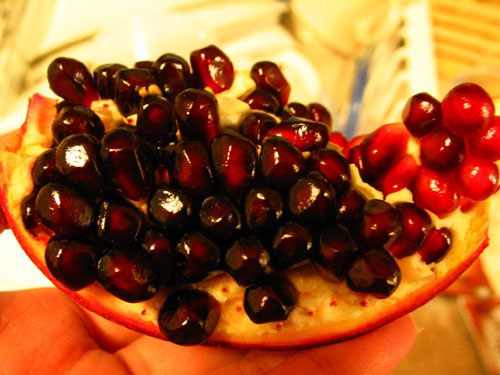pomogranate: (0, 44, 499, 351)
